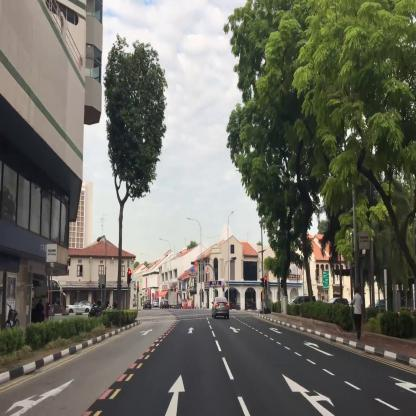red_traffic_light: (128, 269, 130, 282), (191, 261, 196, 264), (137, 285, 139, 292), (265, 276, 266, 286)
